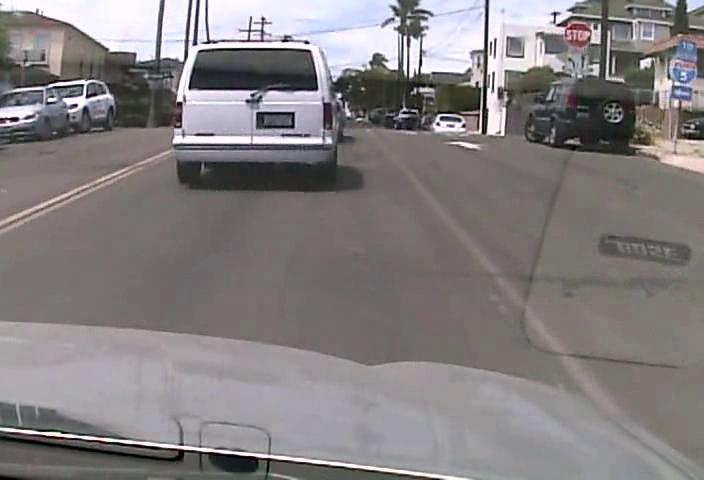stop: (563, 20, 592, 48)
